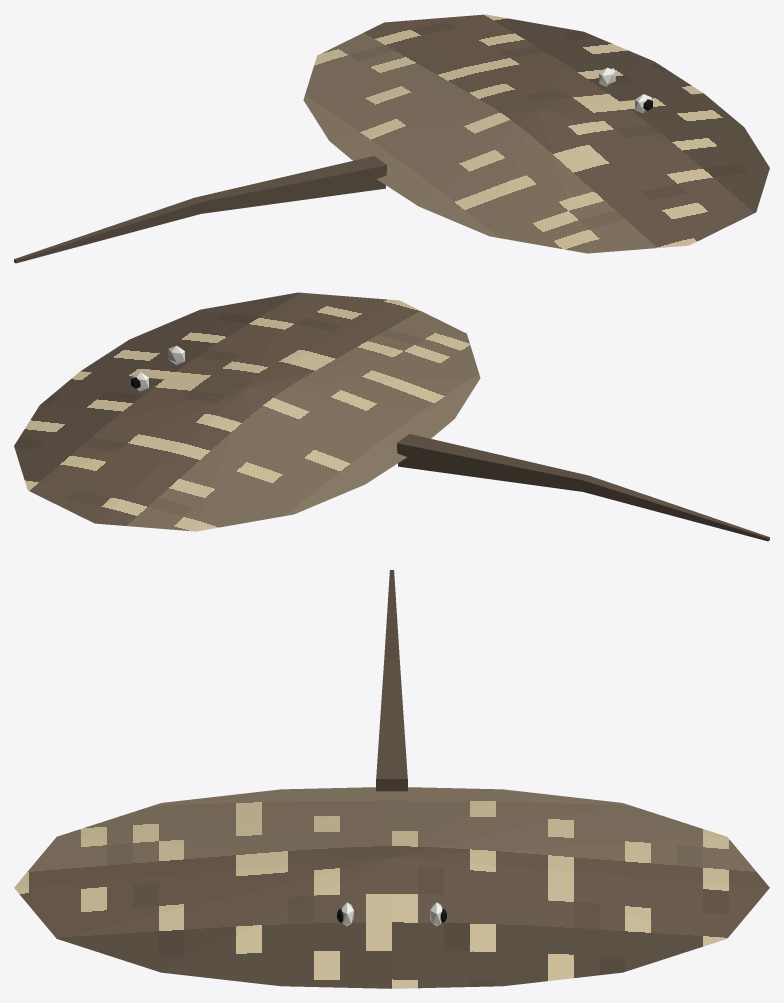
The model's file is southern_eagle_ray.glb.
3 views of the same model, one above another, from view 1: azimuth 30°, elevation 25°; view 2: azimuth 150°, elevation 25°; view 3: azimuth 270°, elevation 25° (orthographic). The views are drawn at different scales.
Parts seen in each view (by area): view 1: fish_southern_eagle_ray; view 2: fish_southern_eagle_ray; view 3: fish_southern_eagle_ray.
Part boxes in pixels (x1,y1,x2,y2): fish_southern_eagle_ray: [14, 14, 769, 263]; fish_southern_eagle_ray: [14, 292, 769, 541]; fish_southern_eagle_ray: [14, 570, 769, 988].
Size of the model in its own units: 1.32 by 0.0792 by 1.01.
Materials: 4 (1 with a texture image).
